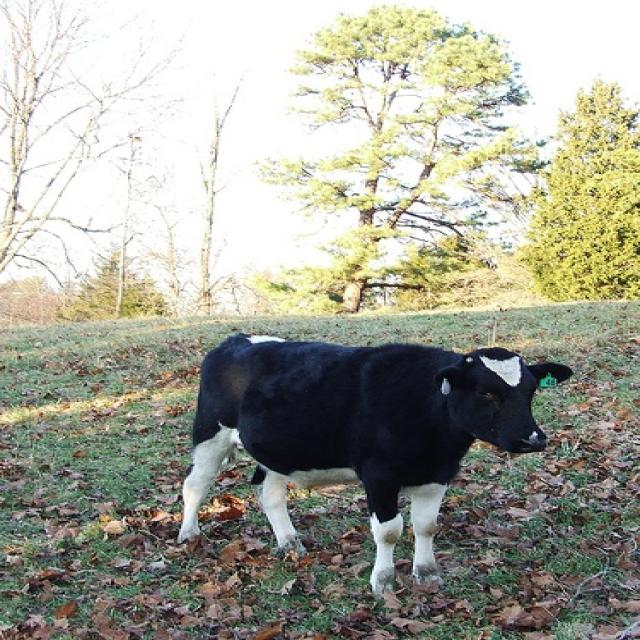cow: (170, 326, 566, 604)
